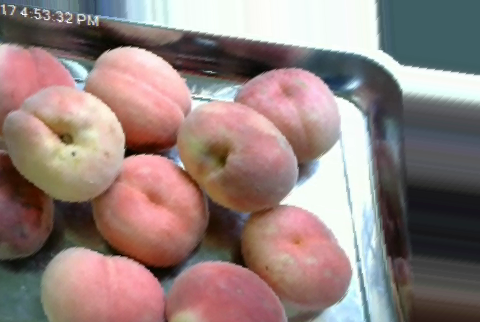Peach: (5, 84, 126, 204), (177, 98, 299, 215), (93, 154, 206, 267), (235, 205, 353, 309), (85, 44, 194, 150), (233, 67, 341, 158), (40, 248, 163, 322), (164, 257, 283, 322)
